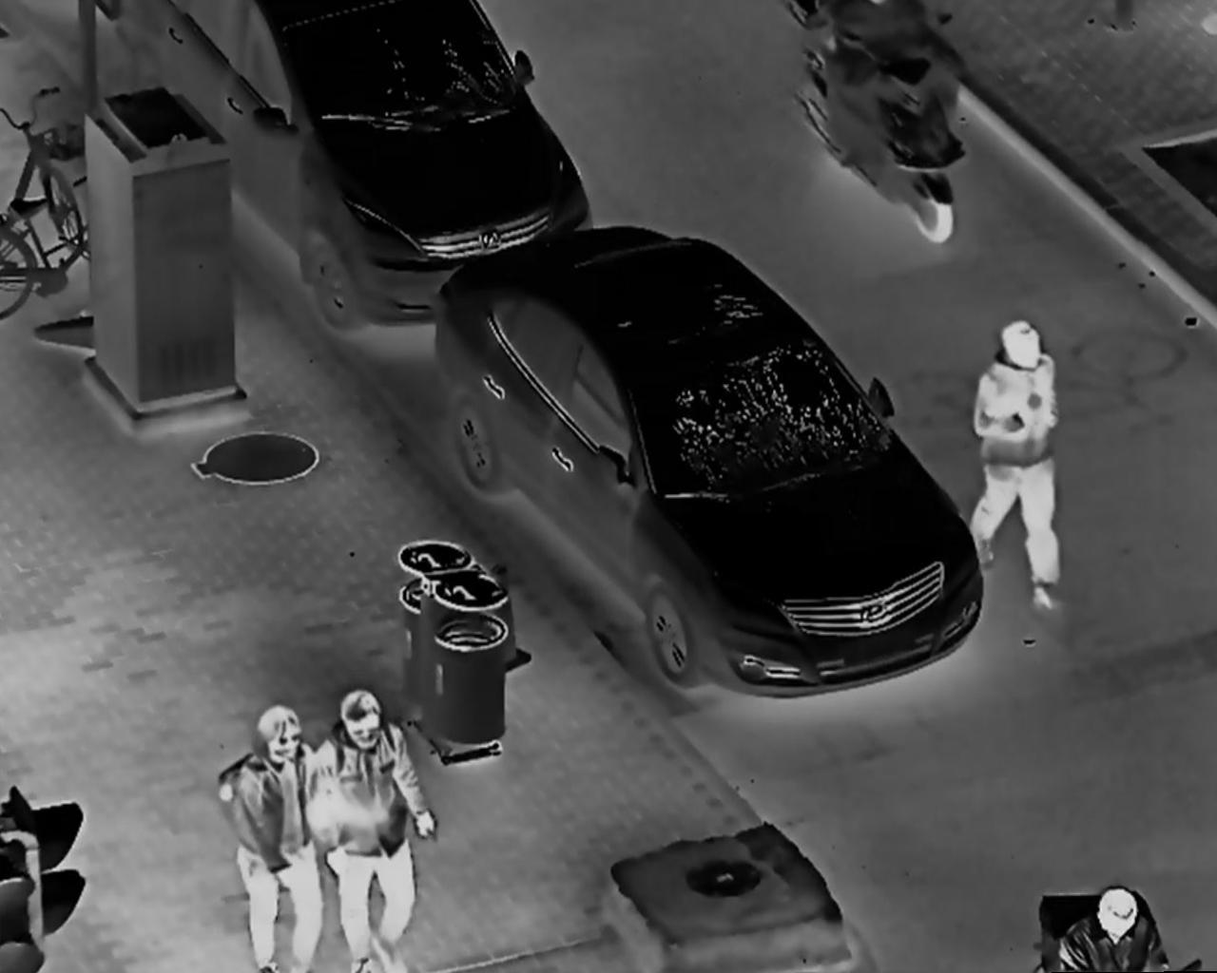person: (960, 314, 1078, 619), (317, 690, 443, 973), (221, 690, 332, 973), (1050, 876, 1171, 973)
